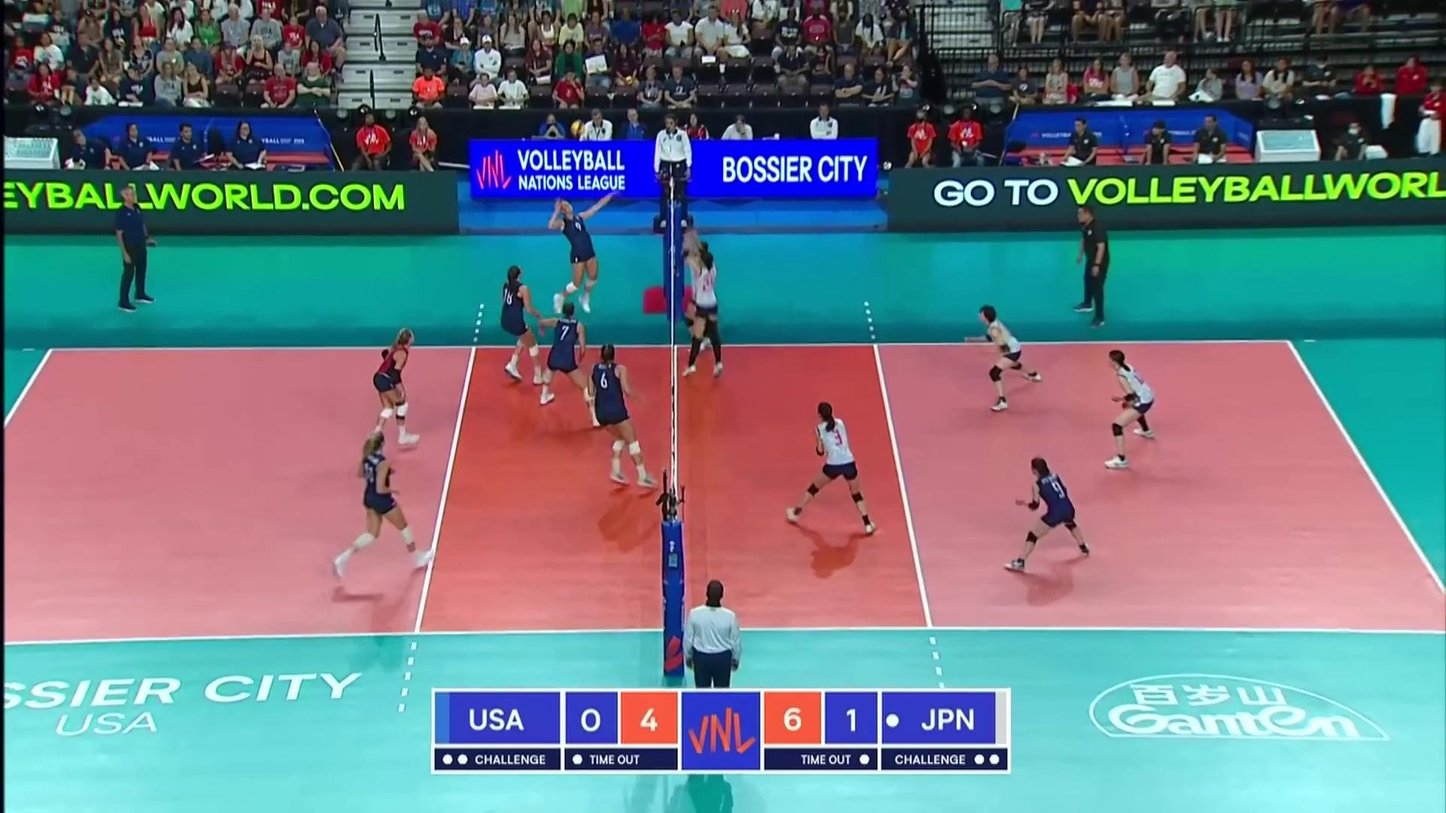player: (331, 432, 437, 582), (784, 400, 879, 536), (591, 342, 661, 488), (1002, 458, 1089, 573), (538, 300, 608, 427), (967, 305, 1043, 411), (551, 194, 615, 310), (1105, 350, 1159, 467), (500, 265, 548, 388), (370, 330, 420, 447), (684, 246, 725, 380), (685, 236, 714, 354)
refree: (681, 581, 744, 689), (654, 116, 693, 225)
